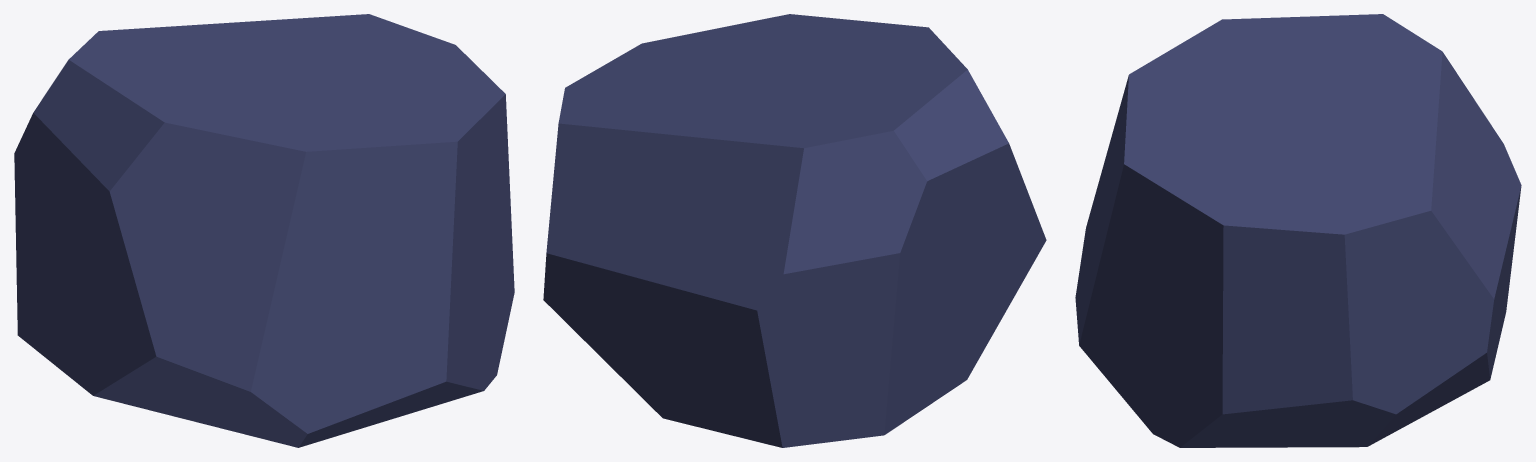
File: StoneBig1.fbx
3 views of the same model, side by side, from view 1: azimuth 30°, elevation 25°; view 2: azimuth 150°, elevation 25°; view 3: azimuth 270°, elevation 25° (orthographic). The views are drawn at different scales.
Visible parts, largest first — view 1: stoneBig1; view 2: stoneBig1; view 3: stoneBig1.
Boxes of the visible parts, box(x1,y1,x2,y2) form: stoneBig1: box(14, 14, 514, 447); stoneBig1: box(543, 14, 1046, 447); stoneBig1: box(1075, 14, 1521, 447).
Bounding box in the file's own units: 330 × 238 × 332.
Materials: 1 (1 with a texture image).
